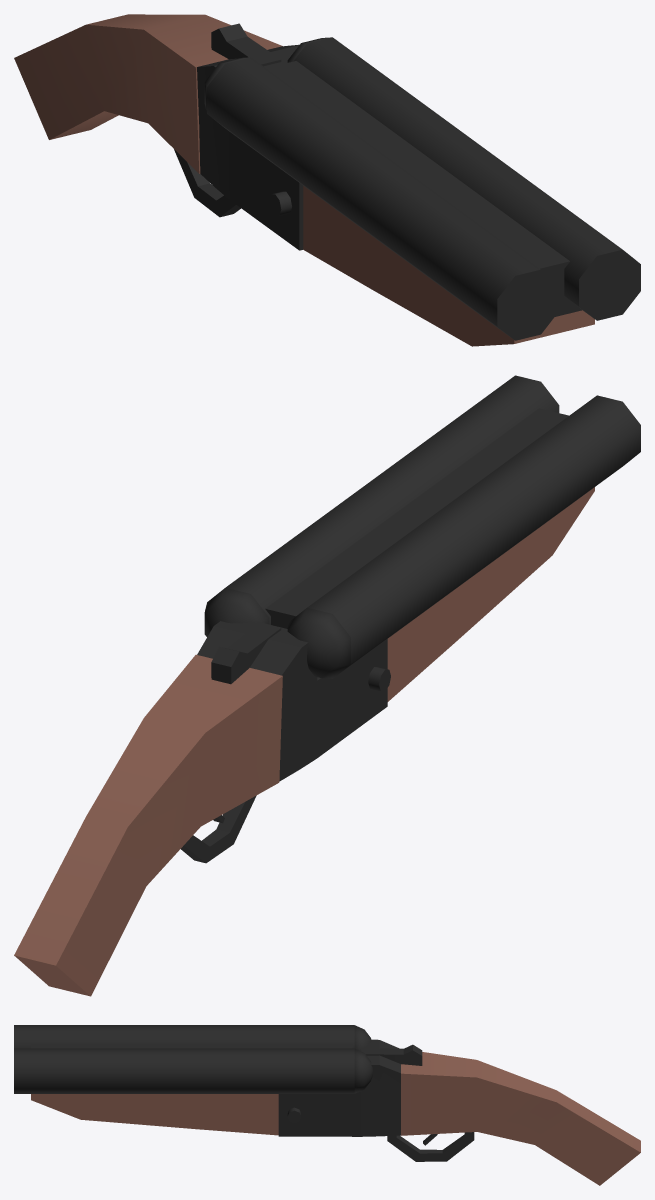
Rendered from shotgun.glb.
3 views of the same model, one above another, from view 1: azimuth 30°, elevation 25°; view 2: azimuth 150°, elevation 25°; view 3: azimuth 270°, elevation 25° (orthographic). The views are drawn at different scales.
Parts seen in each view (by area): view 1: Sawed-Off_Shotgun_Body001_26, Sawed-Off_Shotgun_Body_28; view 2: Sawed-Off_Shotgun_Body001_26, Sawed-Off_Shotgun_Body_28; view 3: Sawed-Off_Shotgun_Body001_26, Sawed-Off_Shotgun_Body_28.
Part boxes in pixels (x1,y1,x2,y2): Sawed-Off_Shotgun_Body001_26: (207,37,640,346); Sawed-Off_Shotgun_Body_28: (14,14,331,250); Sawed-Off_Shotgun_Body001_26: (225,375,640,701); Sawed-Off_Shotgun_Body_28: (14,588,387,996); Sawed-Off_Shotgun_Body001_26: (14,1025,354,1135); Sawed-Off_Shotgun_Body_28: (278,1025,640,1185).
Size of the model in its own units: 0.1499 by 0.2367 by 0.9642.
